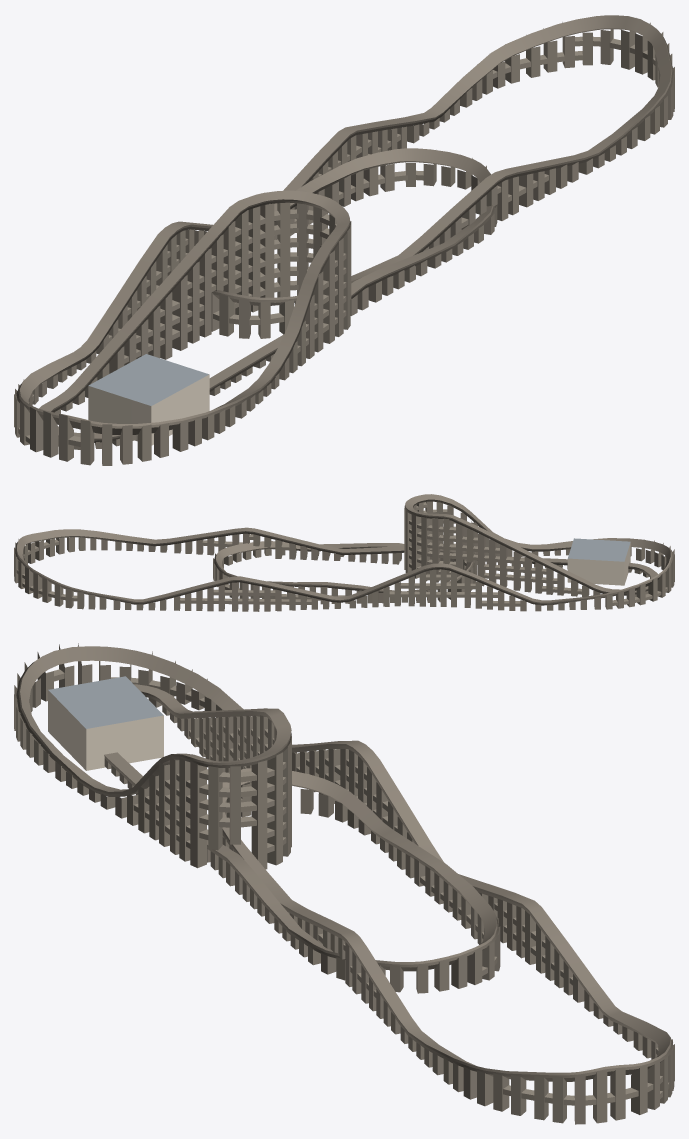
The picture shows the model from 3 angles, top to bottom: view 1: azimuth 30°, elevation 25°; view 2: azimuth 150°, elevation 25°; view 3: azimuth 270°, elevation 25°; orthographic projection. The views are drawn at different scales.
Parts seen in each view (by area): view 1: hurler-carowinds; view 2: hurler-carowinds; view 3: hurler-carowinds.
Part boxes in pixels (x1,y1,x2,y2): hurler-carowinds: [14, 15, 674, 465]; hurler-carowinds: [14, 494, 674, 611]; hurler-carowinds: [14, 643, 674, 1124].
Size of the model in its own units: 213 by 29.68 by 135.
